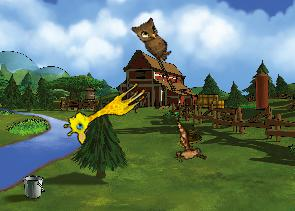eagle: (157, 118, 216, 174)
giraffe: (59, 71, 150, 148)
owl: (127, 12, 181, 63)
